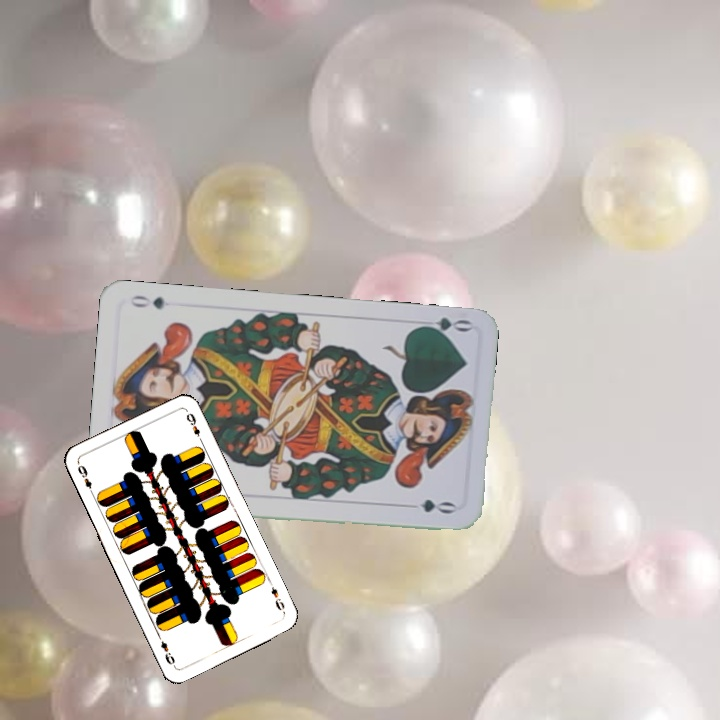E9: (73, 461, 97, 498), (265, 577, 287, 613)
GO: (413, 313, 473, 340)
